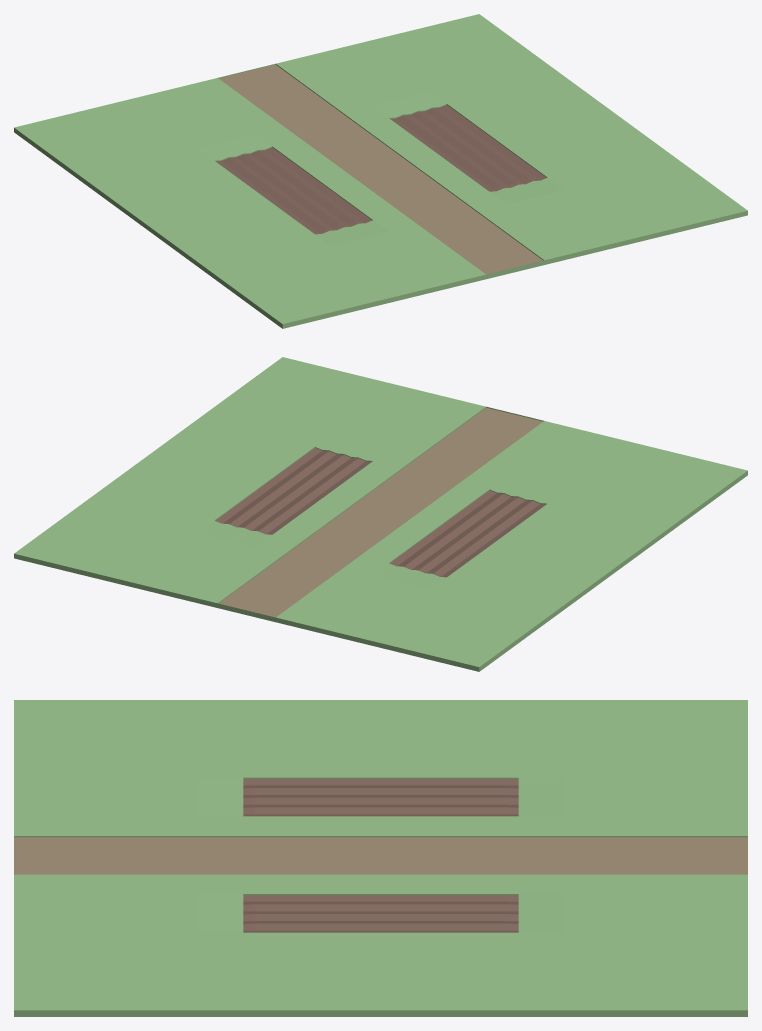
The model's file is Grass.fbx.
3 views of the same model, one above another, from view 1: azimuth 30°, elevation 25°; view 2: azimuth 150°, elevation 25°; view 3: azimuth 270°, elevation 25° (orthographic). The views are drawn at different scales.
Visible parts, largest first — view 1: Cube; view 2: Cube; view 3: Cube.
Part boxes in pixels (<box>): Cube: <box>14,14,747,328</box>; Cube: <box>14,357,747,671</box>; Cube: <box>14,700,747,1016</box>.
Bounding box in the file's own units: 719 × 7.06 × 719.
